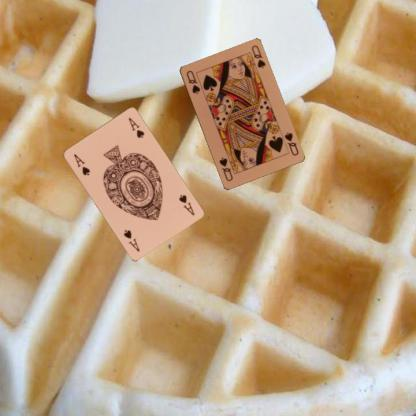As: (70, 151, 92, 177), (177, 192, 196, 216)
Qs: (281, 130, 300, 156), (183, 68, 201, 94)
